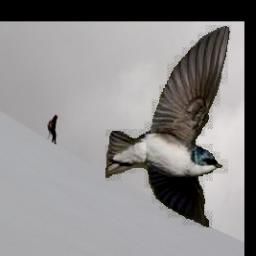Swallow: (105, 26, 230, 229)
